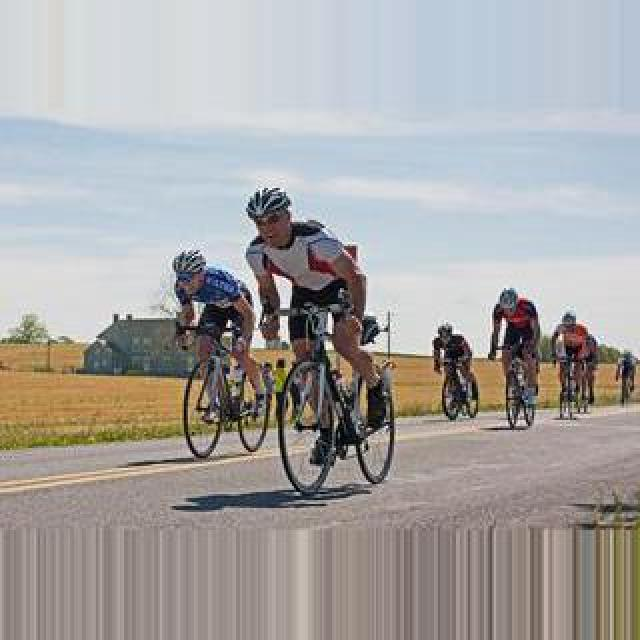MC-Bike: (244, 184, 388, 452), (164, 246, 264, 428), (488, 288, 542, 422), (552, 308, 590, 414), (432, 322, 476, 410)
Person: (274, 300, 398, 492), (176, 322, 272, 458), (504, 344, 540, 430), (438, 358, 478, 420)
